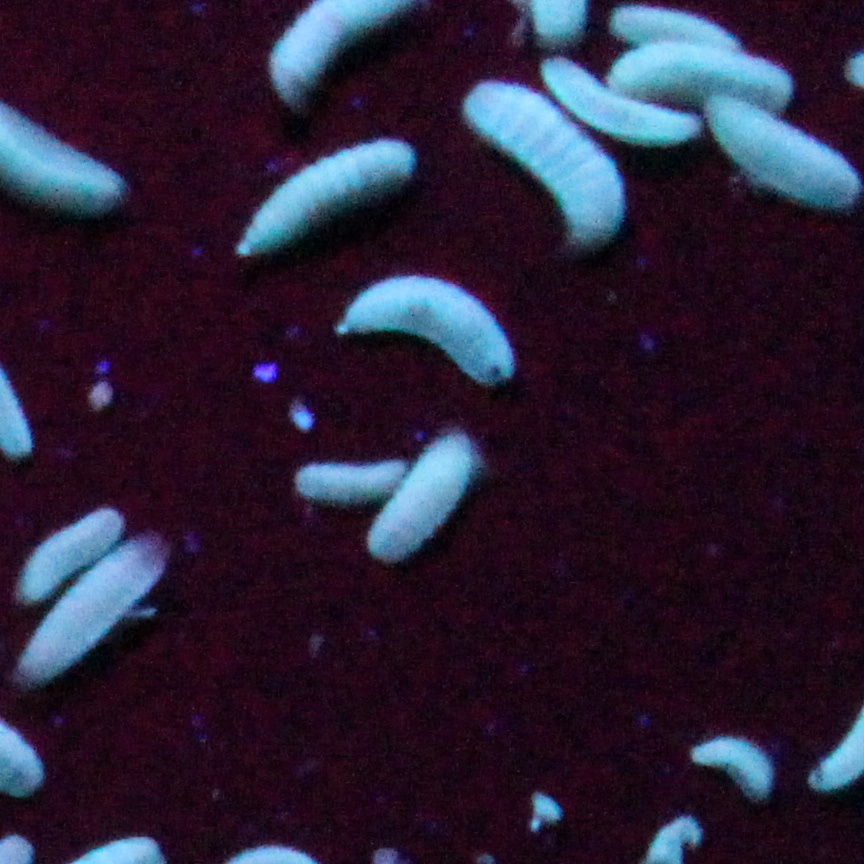larve: (470, 77, 624, 241), (27, 541, 167, 688), (340, 268, 507, 388), (240, 141, 414, 248), (715, 96, 863, 216), (537, 48, 695, 141), (367, 428, 467, 574), (621, 35, 786, 103), (699, 725, 773, 806), (305, 461, 399, 506)
